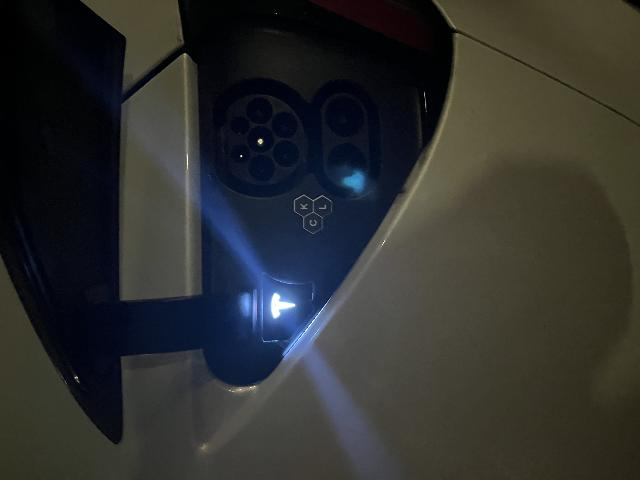inlet: (294, 227, 386, 307)
inlet-above-left: (317, 231, 336, 250)
inlet-above-right: (346, 230, 364, 248)
inlet-below-left: (313, 272, 340, 299)
inlet-below-right: (342, 271, 368, 297)
inlet-circle: (327, 247, 354, 274)
inlet-circle-left: (299, 248, 326, 276)
inlet-circle-right: (356, 246, 383, 273)
inlet-minus: (343, 325, 384, 364)
inlet-plus: (295, 327, 337, 367)
